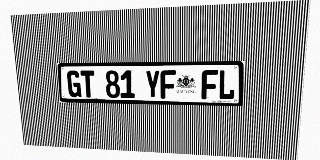1: (120, 70, 135, 98)
8: (105, 70, 120, 98)
F: (201, 70, 218, 100), (160, 70, 176, 99)
G: (67, 70, 81, 97)
L: (218, 70, 235, 100)
T: (80, 70, 95, 98)
Y: (145, 70, 160, 99)
